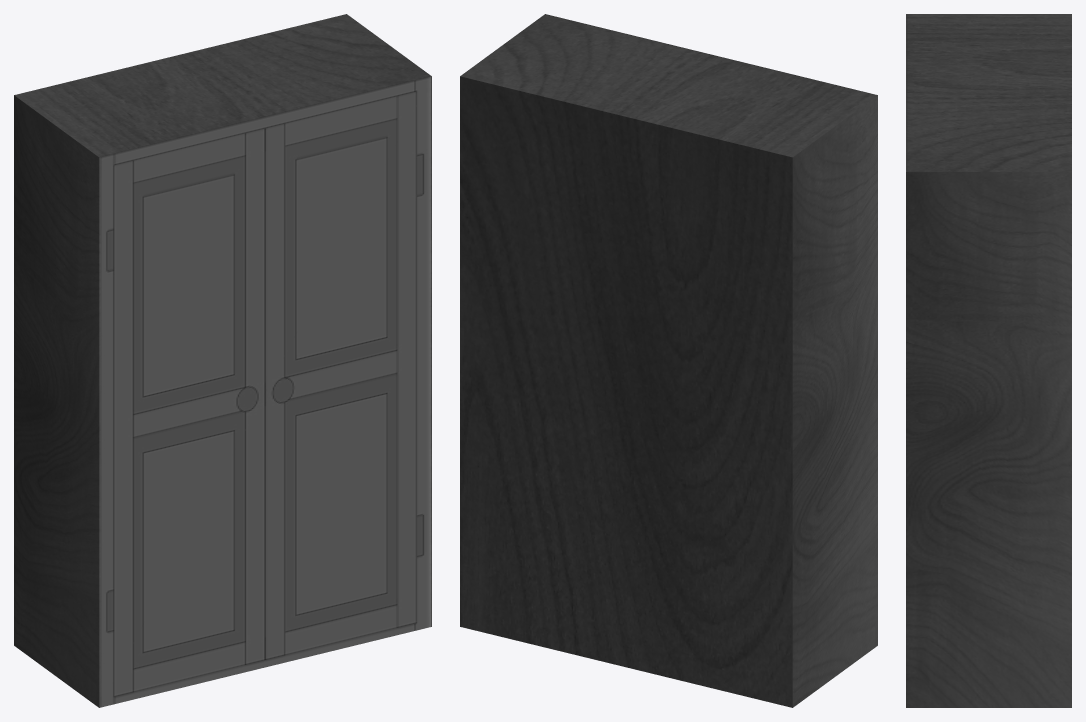
File: Closet.fbx
3 views of the same model, side by side, from view 1: azimuth 30°, elevation 25°; view 2: azimuth 150°, elevation 25°; view 3: azimuth 270°, elevation 25° (orthographic). The views are drawn at different scales.
Parts seen in each view (by area): view 1: Closet1; view 2: Closet1; view 3: Closet1.
Boxes of the visible parts, bbox=[...] form: Closet1: bbox=[14, 14, 431, 707]; Closet1: bbox=[460, 14, 877, 707]; Closet1: bbox=[906, 14, 1071, 707].
Size of the model in its own units: 4.13 by 6.54 by 1.83.
